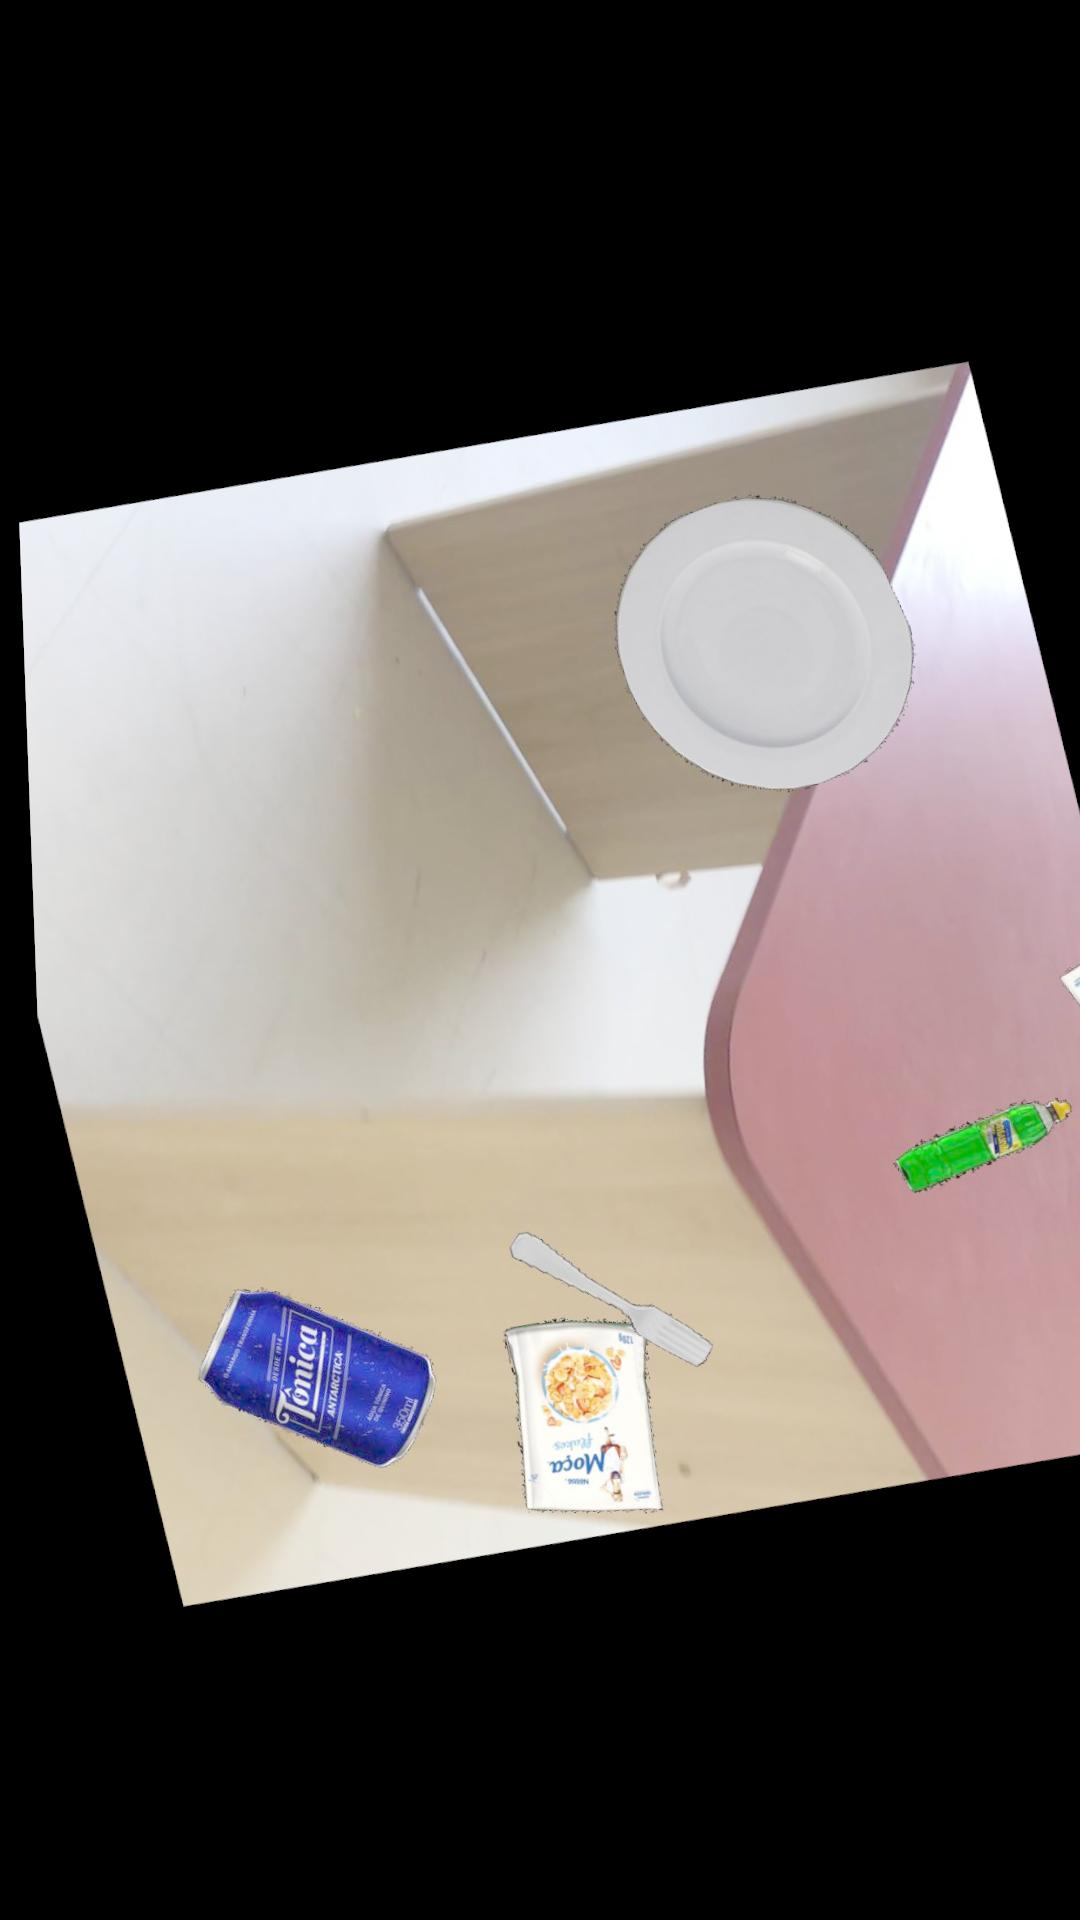cleaner: (887, 1089, 1064, 1185)
corn flakes: (495, 1313, 651, 1510), (1052, 951, 1080, 1007)
fork: (500, 1229, 703, 1362)
plate: (611, 489, 910, 785)
tonic: (187, 1288, 426, 1466)
